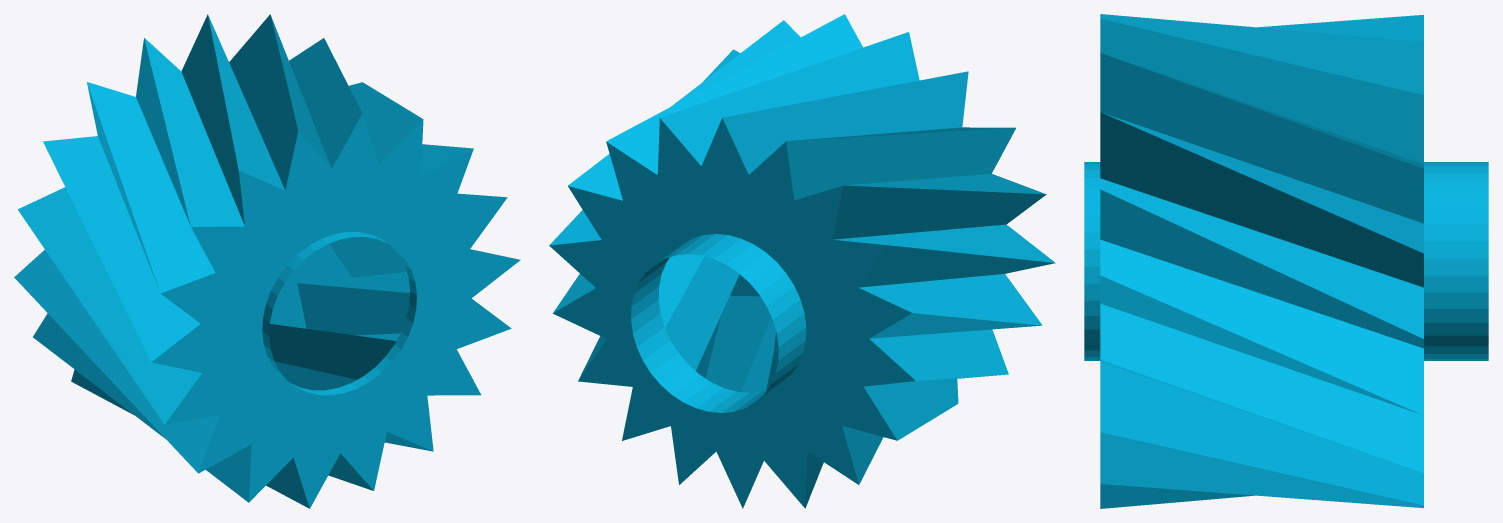
File: 672 planet gear1.fbx
The picture shows the model from 3 angles, left to right: view 1: azimuth 30°, elevation 25°; view 2: azimuth 150°, elevation 25°; view 3: azimuth 270°, elevation 25°; orthographic projection. The views are drawn at different scales.
Parts seen in each view (by area): view 1: planet 1; view 2: planet 1; view 3: planet 1.
Part boxes in pixels (left/top/right/bottom): planet 1: left=14, top=14, right=520, bottom=508; planet 1: left=549, top=14, right=1055, bottom=508; planet 1: left=1084, top=14, right=1488, bottom=508.
Size of the model in its own units: 308 by 308 by 250.
